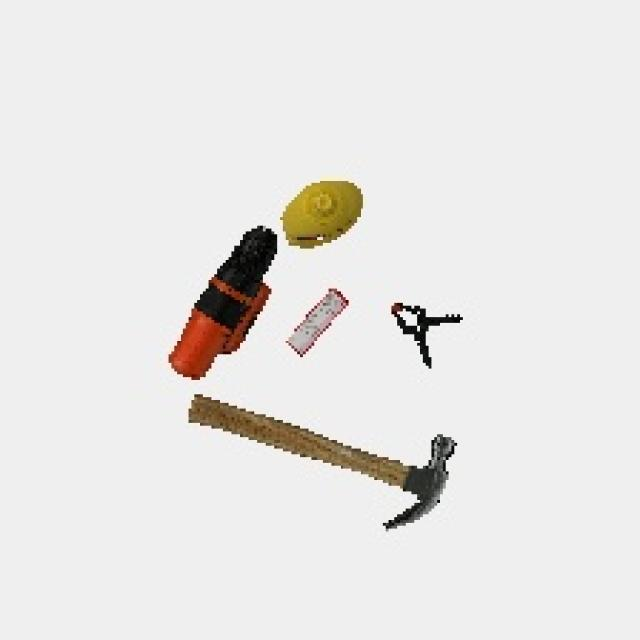GelatinBox: (279, 283, 357, 363)
Hammer: (182, 388, 477, 546)
MediumClamp: (386, 297, 474, 372)
MustardBottle: (280, 172, 384, 250)
